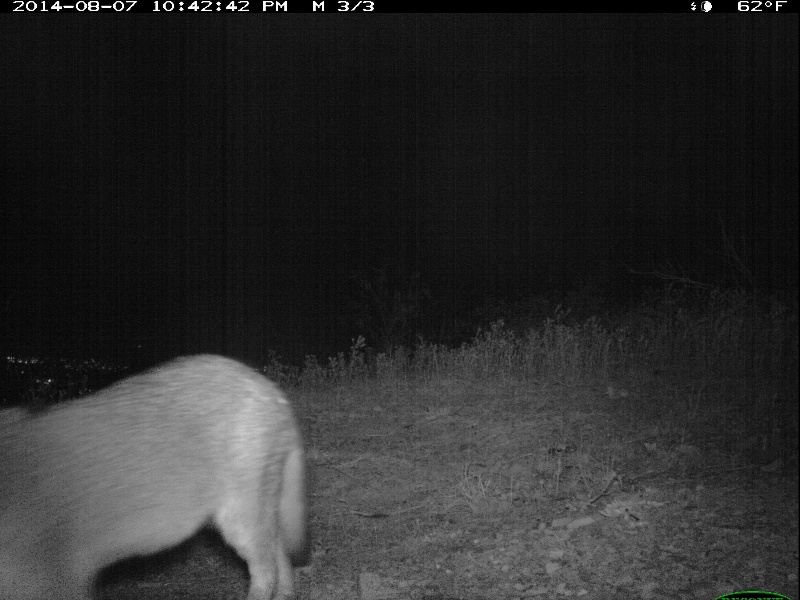coyote: (7, 345, 317, 600)
